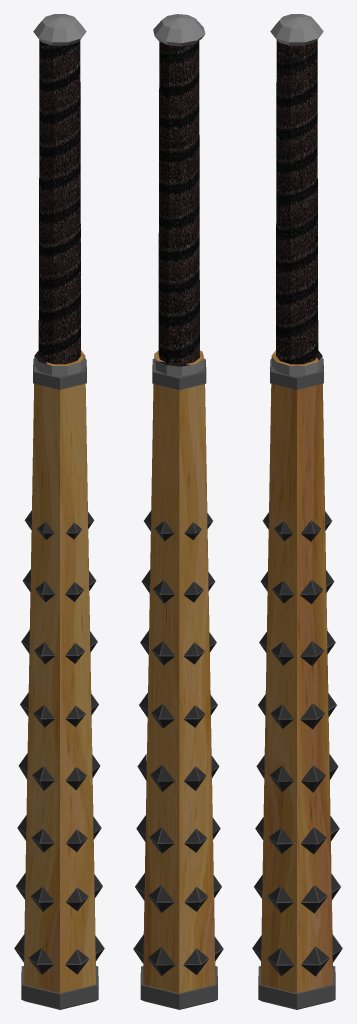
File: Kanabo.fbx
3 renders of one model, left to right at view 1: azimuth 90°, elevation 25°; view 2: azimuth 150°, elevation 25°; view 3: azimuth 270°, elevation 25°, orthographic.
Visible parts, largest first — view 1: ZomboidKanabo; view 2: ZomboidKanabo; view 3: ZomboidKanabo.
Boxes of the visible parts, x1=… form: ZomboidKanabo: x1=14, y1=14, x2=104, y2=1009; ZomboidKanabo: x1=133, y1=14, x2=223, y2=1009; ZomboidKanabo: x1=252, y1=14, x2=342, y2=1009.
Size of the model in its own units: 0.0787 by 0.9543 by 0.0799.
